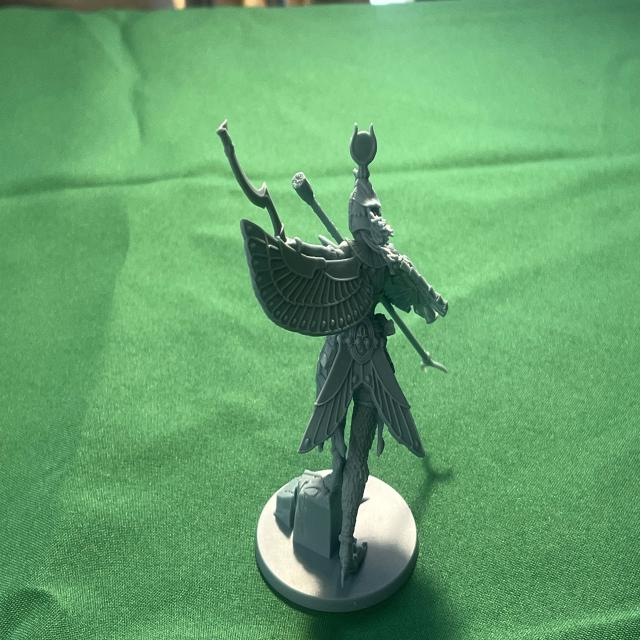isis: (214, 106, 457, 624)
